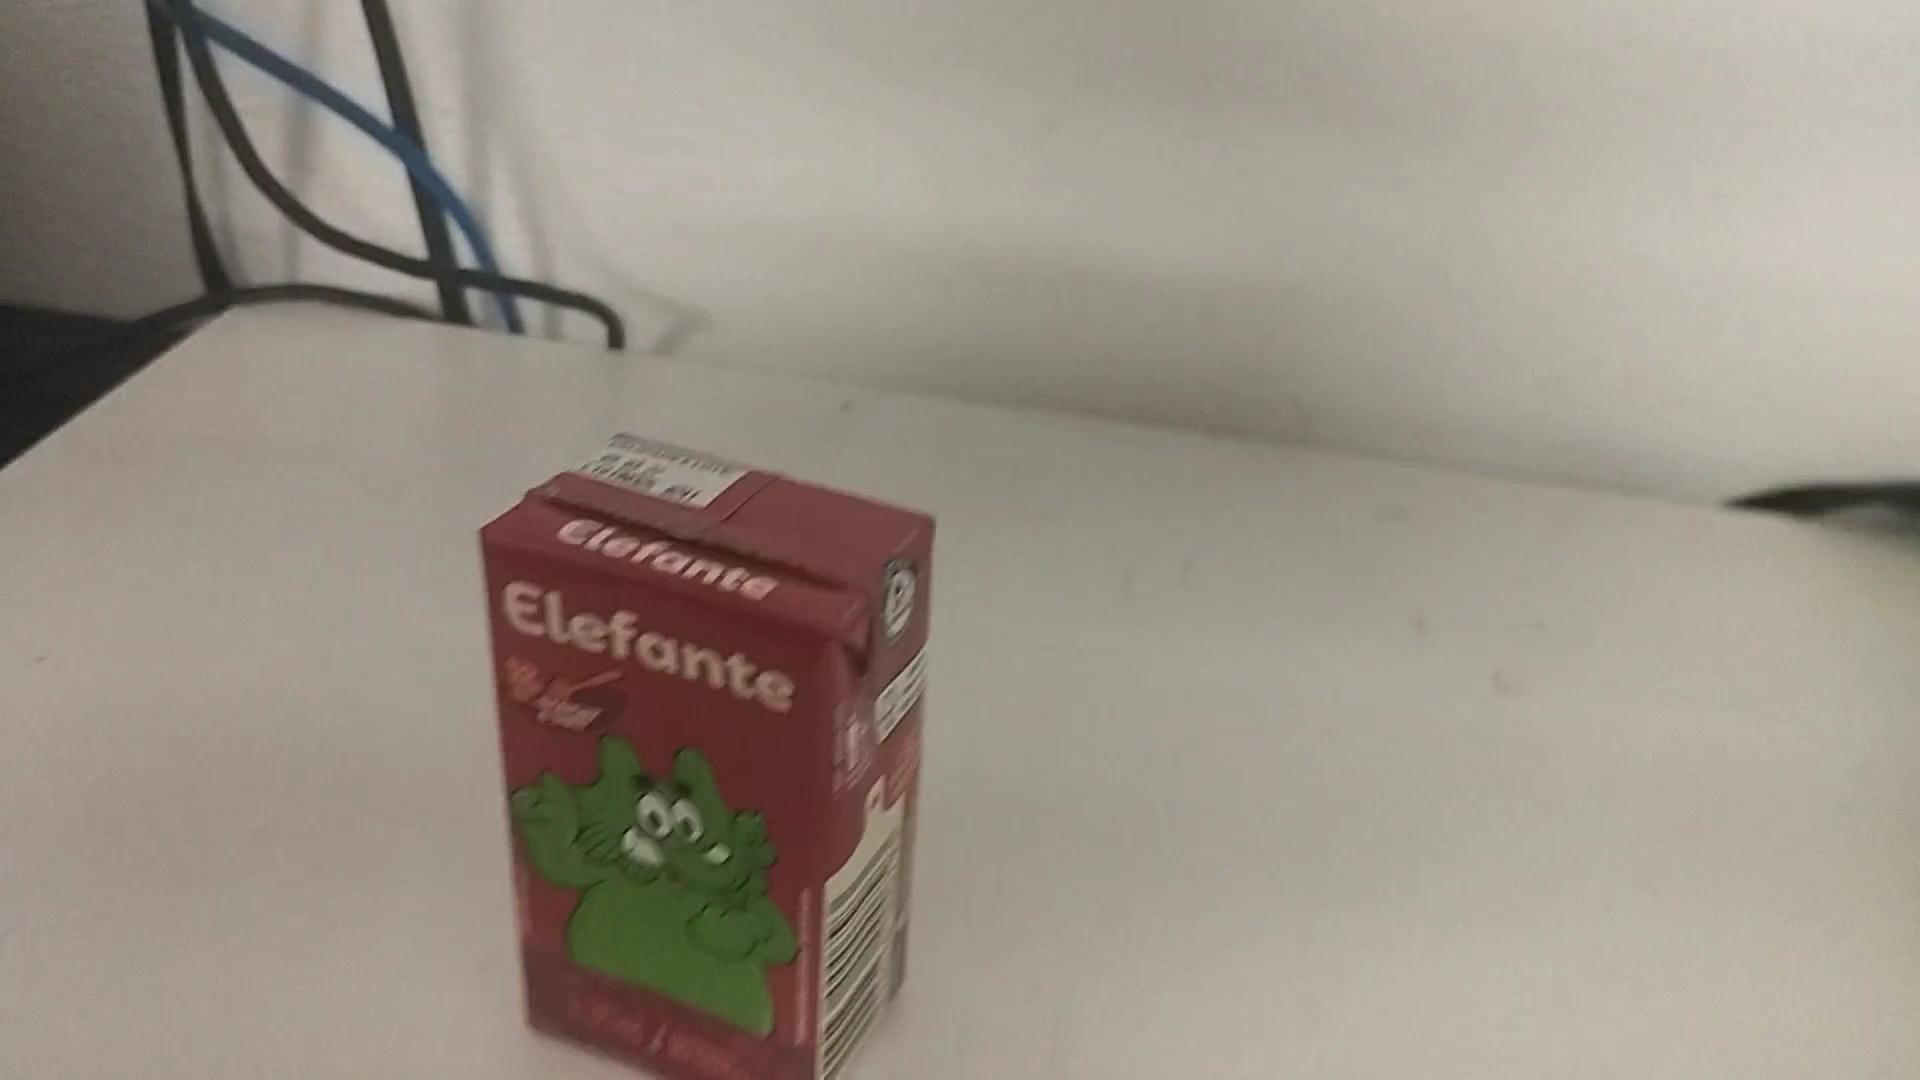tomate: (477, 442, 932, 1080)
